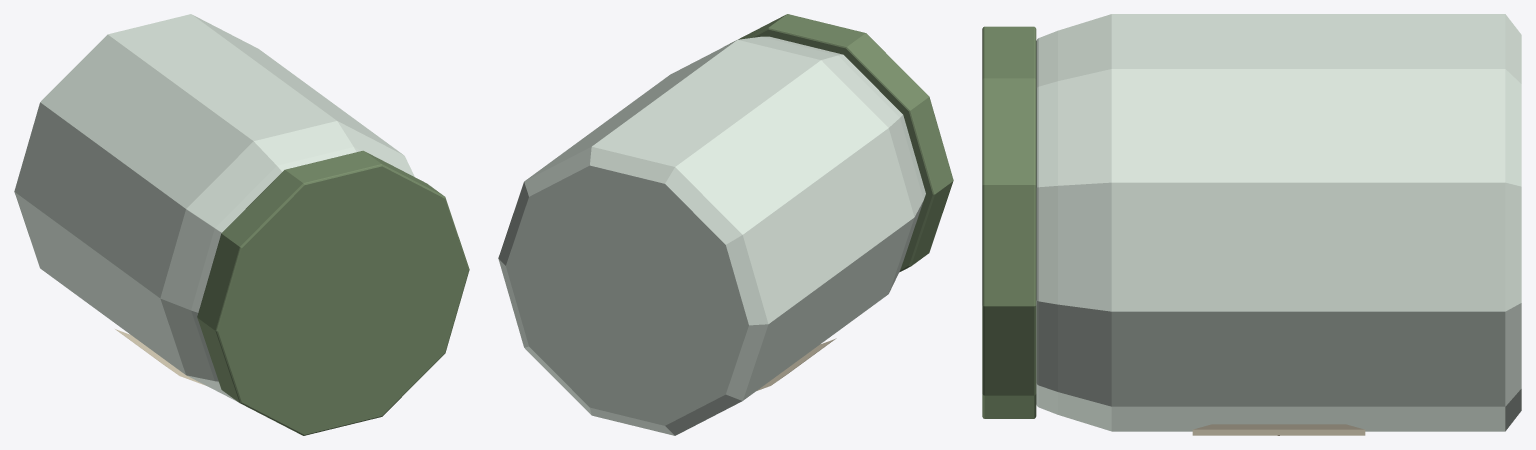
The model's file is coconut_oil.glb.
The picture shows the model from 3 angles, left to right: view 1: azimuth 30°, elevation 25°; view 2: azimuth 150°, elevation 25°; view 3: azimuth 270°, elevation 25°; orthographic projection. The views are drawn at different scales.
Visible parts, largest first — view 1: coconut_oil; view 2: coconut_oil; view 3: coconut_oil.
Boxes of the visible parts, bbox=[...] form: coconut_oil: bbox=[14, 14, 469, 435]; coconut_oil: bbox=[498, 14, 953, 435]; coconut_oil: bbox=[982, 14, 1521, 435].
Size of the model in its own units: 0.078 by 0.0787 by 0.1.
